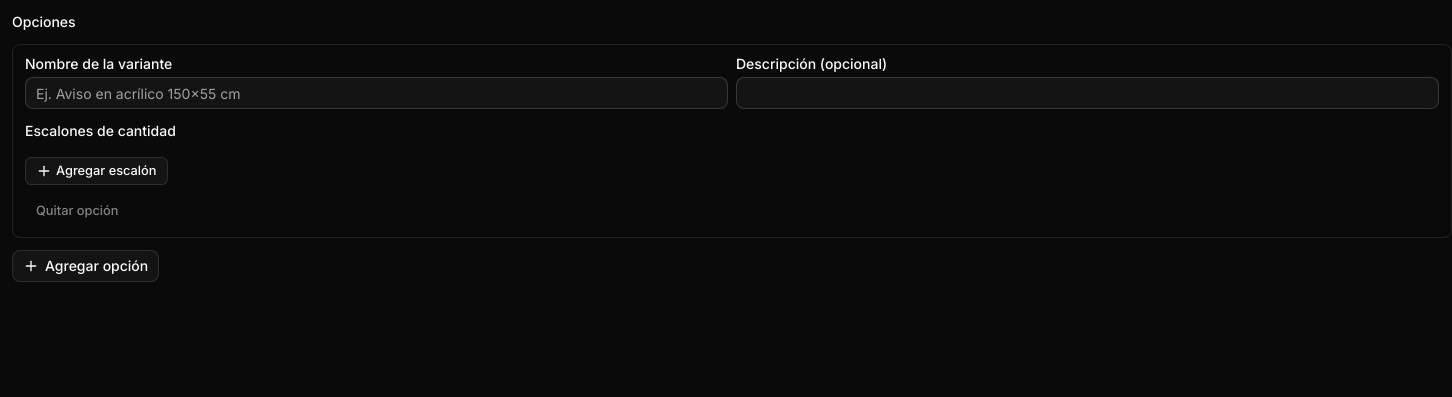
Test: CatalogVariantFields › previews a per-unit tier's computed total (quantity × unit price)
Click the button "Agregar escalón". click: coordinates (96, 171)
box: [25,157,168,185]
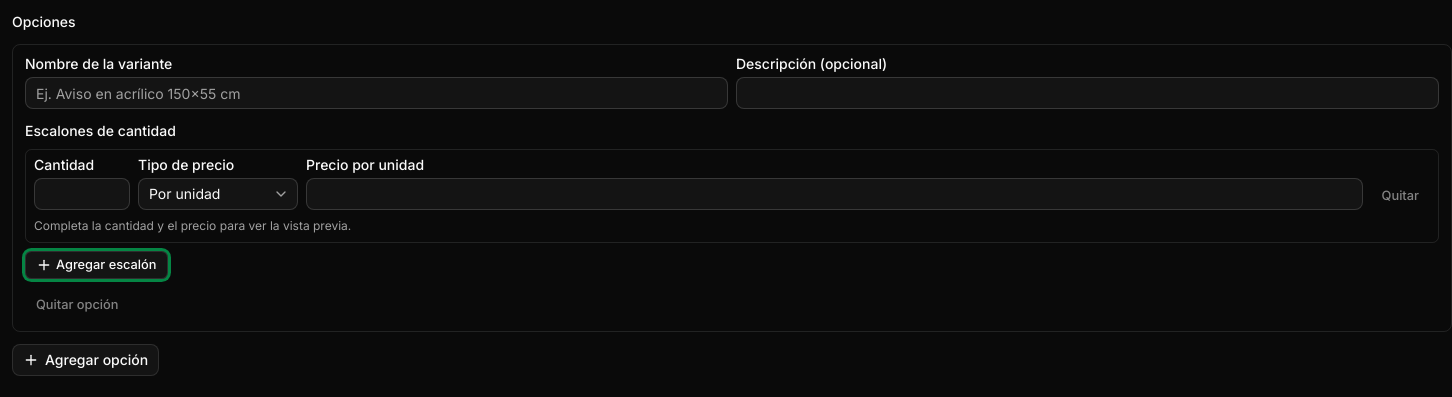
Type "12" into the field labelled "Cantidad". click: coordinates (82, 194)
box: [34,178,130,210]
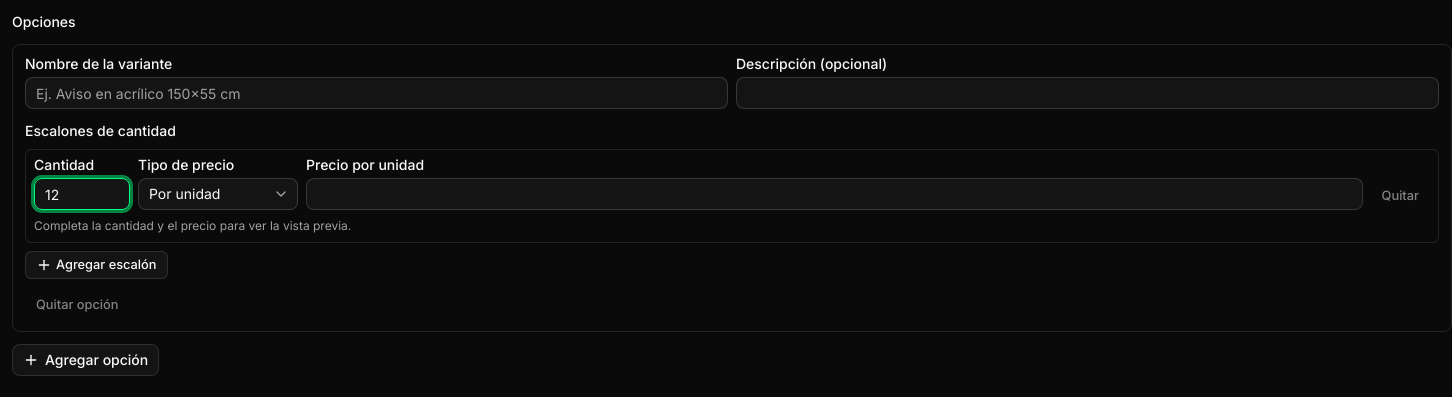
Type "20000" into the field labelled "Precio por unidad". click: coordinates (834, 194)
box: [306,178,1363,210]
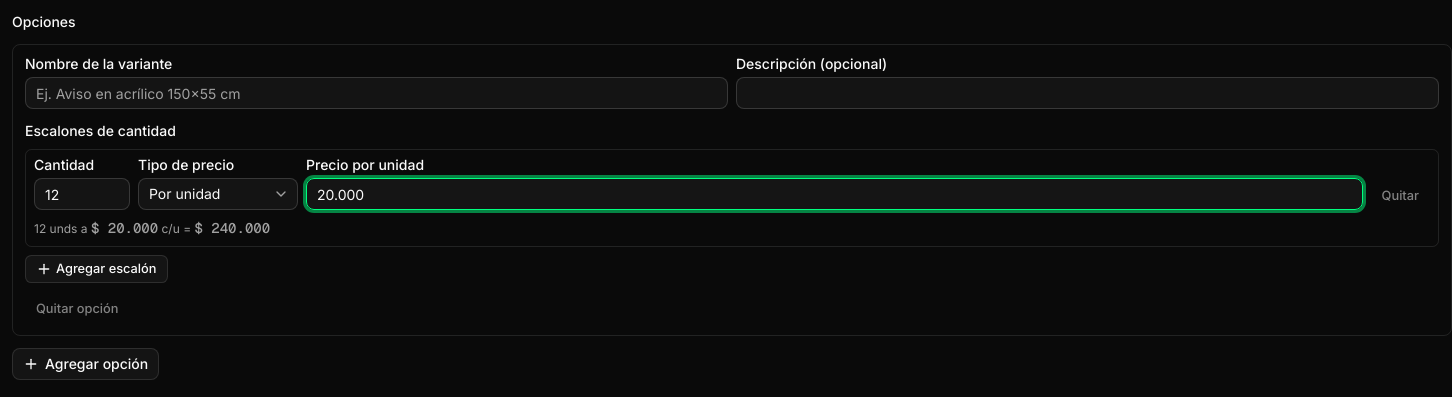
Expected: the text "12 unds a $ 20.000 c/u = $ 240.000" is shown, [34,219,270,237]
